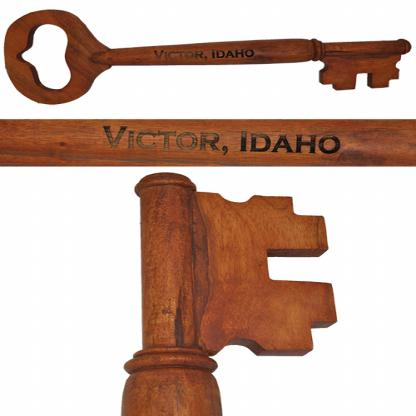key: (117, 170, 337, 415), (4, 10, 413, 107)
